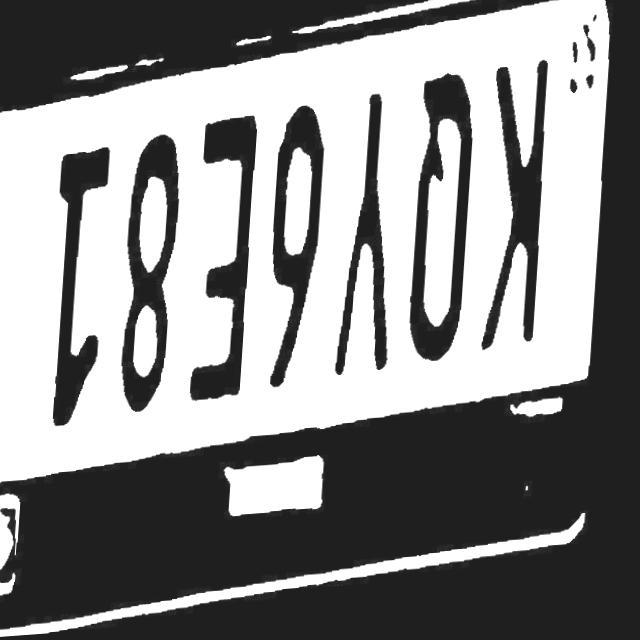1: (35, 143, 120, 436)
6: (258, 103, 334, 398)
8: (118, 131, 191, 419)
e: (183, 109, 263, 412)
k: (472, 66, 560, 375)
q: (398, 75, 485, 377)
y: (325, 93, 410, 392)
